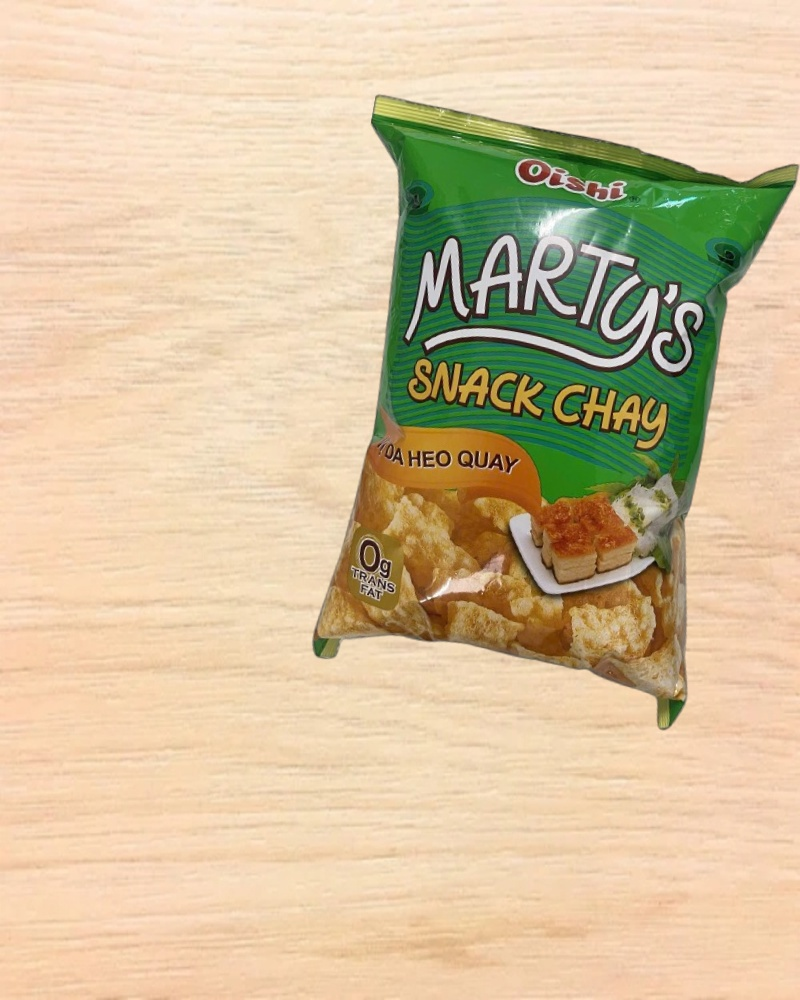Snack chay: (277, 91, 800, 737)
